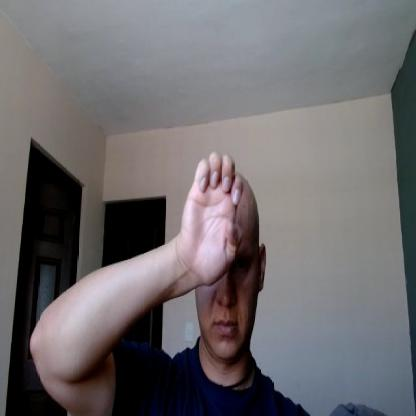E: (180, 153, 244, 284)
